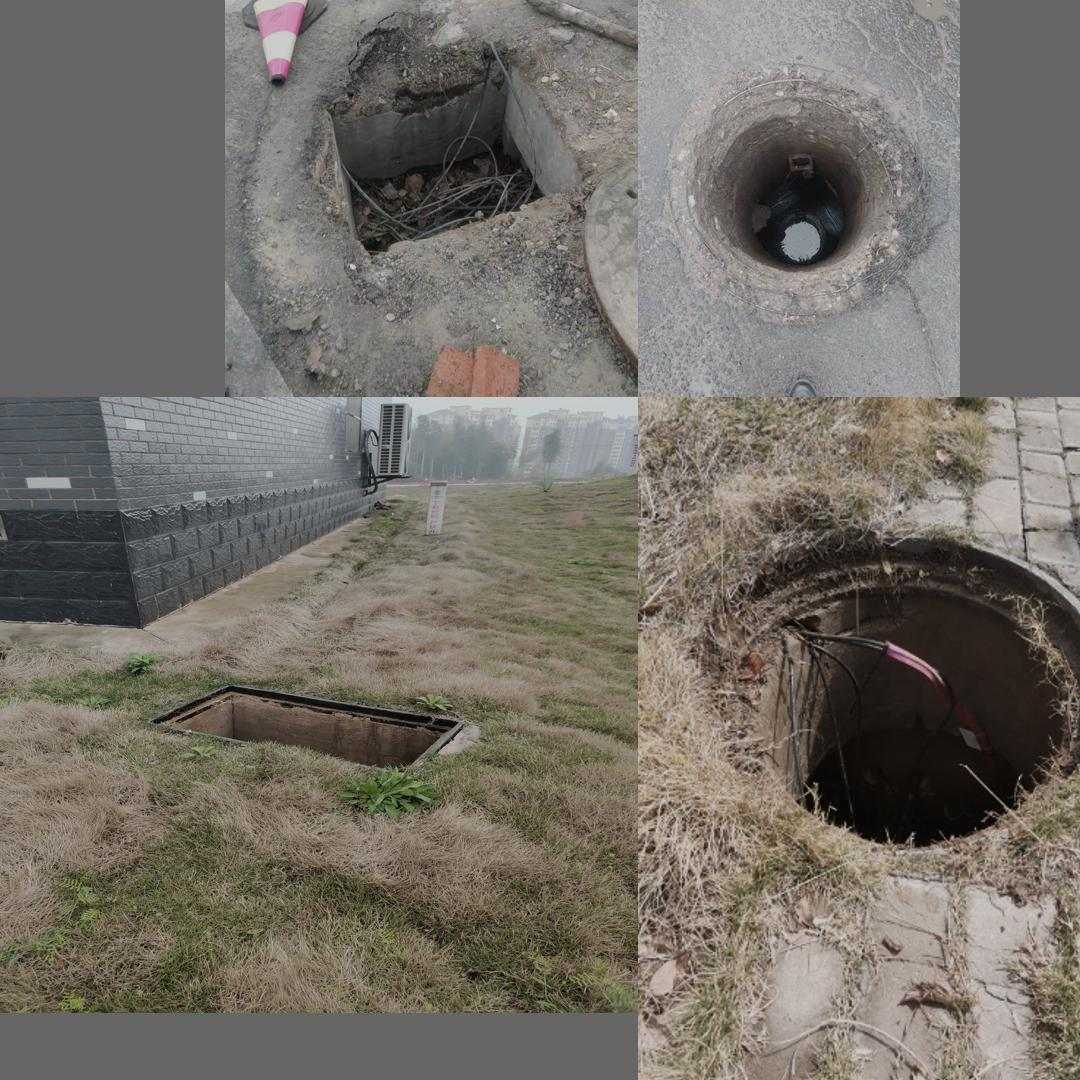lose: (699, 527, 1080, 859), (668, 82, 926, 313), (325, 48, 585, 257), (137, 684, 463, 773)
